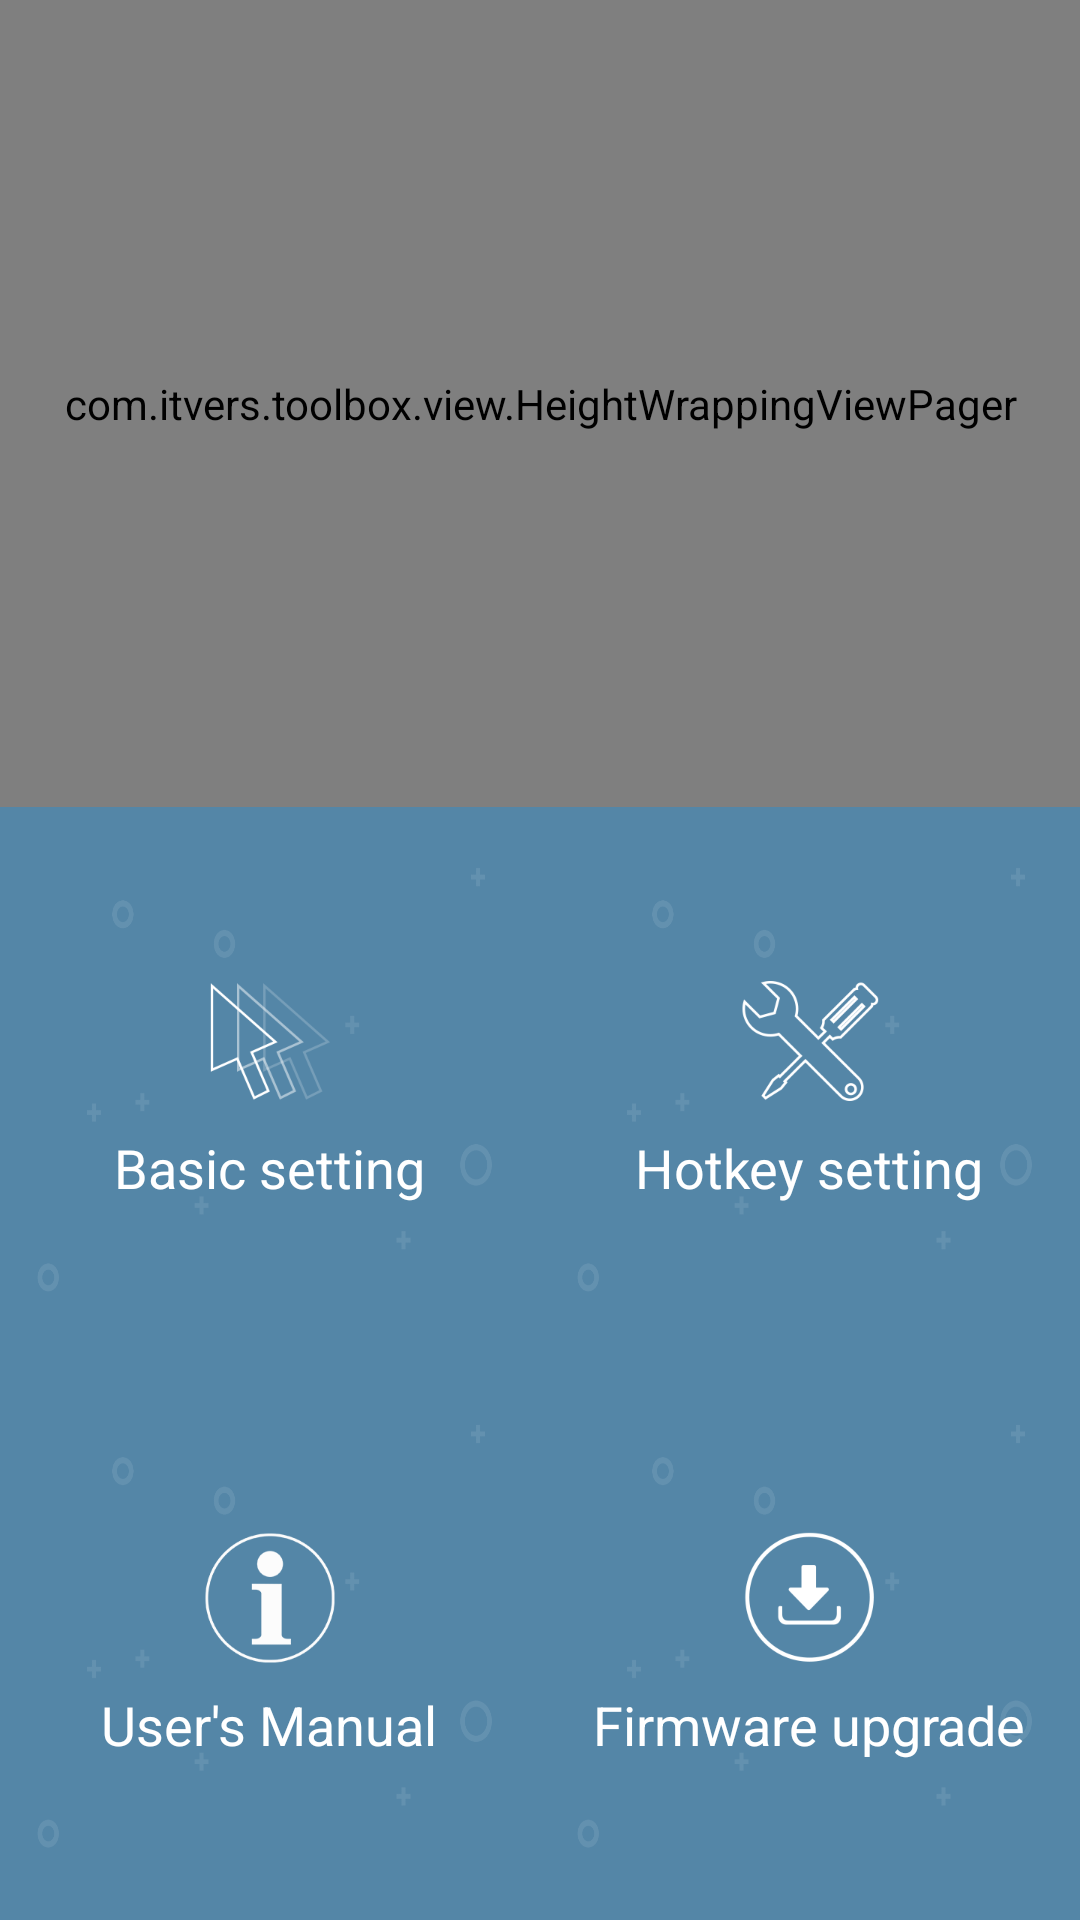

Where to tap for icons on this 1080x1920 app screen, as [x,y]:
quickguide: [270,1598]
